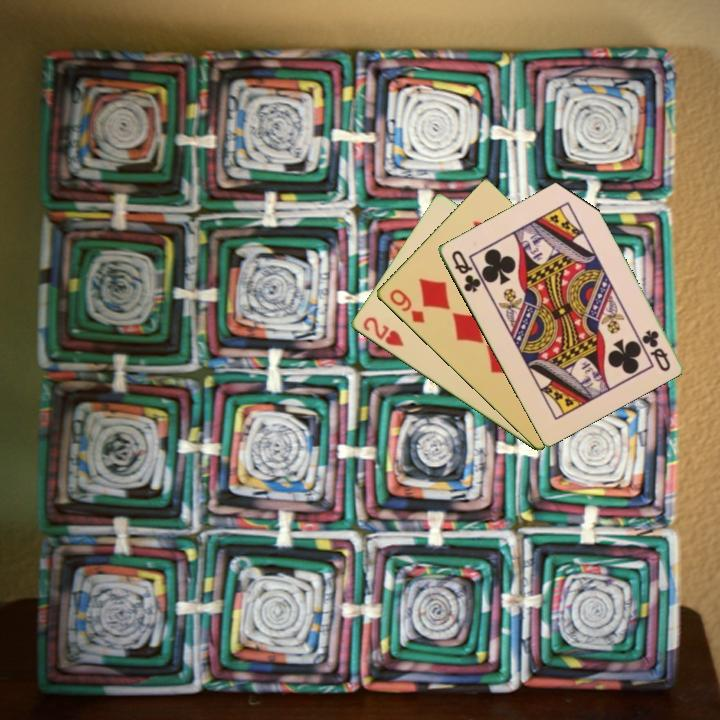2h: (359, 313, 406, 349)
9d: (386, 285, 427, 326)
Qc: (447, 246, 483, 295), (638, 326, 673, 374)
